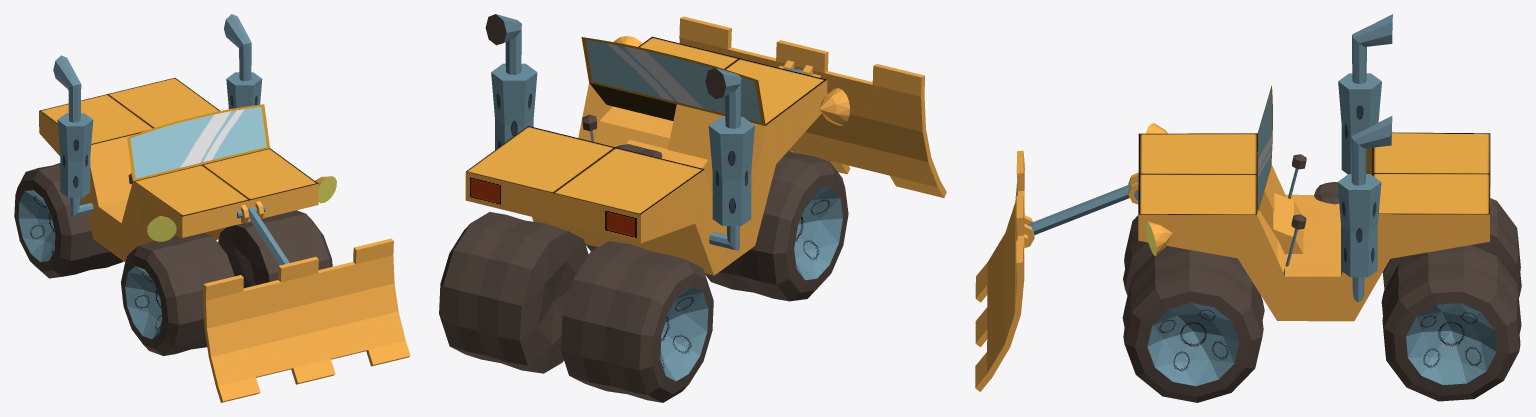
File: bruno_car.obj
The picture shows the model from 3 angles, left to right: view 1: azimuth 30°, elevation 25°; view 2: azimuth 150°, elevation 25°; view 3: azimuth 270°, elevation 25°; orthographic projection. The views are drawn at different scales.
Parts seen in each view (by area): view 1: mesh0020; view 2: mesh0020; view 3: mesh0020.
Boxes of the visible parts, x1,y1,x2,y2 form: mesh0020: (14, 14, 410, 402); mesh0020: (439, 14, 946, 402); mesh0020: (975, 14, 1521, 402).
Size of the model in its own units: 13.55 by 15.92 by 26.8.
9 materials, 9 textured.
